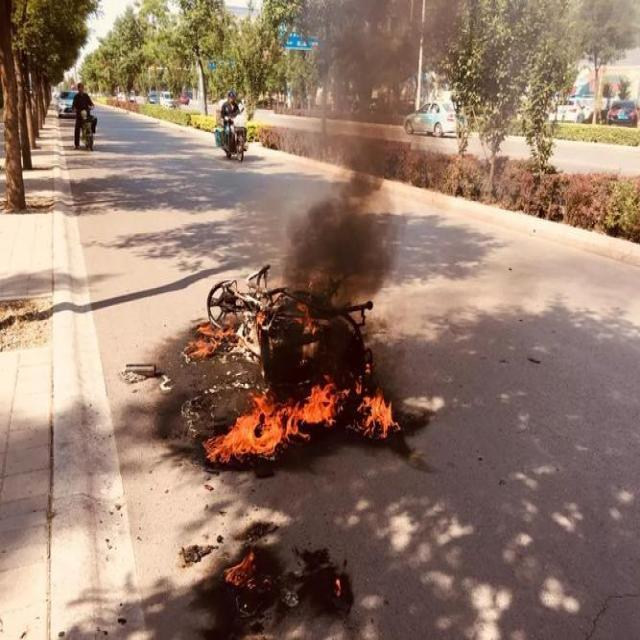fire: (207, 378, 396, 457), (187, 322, 240, 363), (269, 298, 320, 338)
